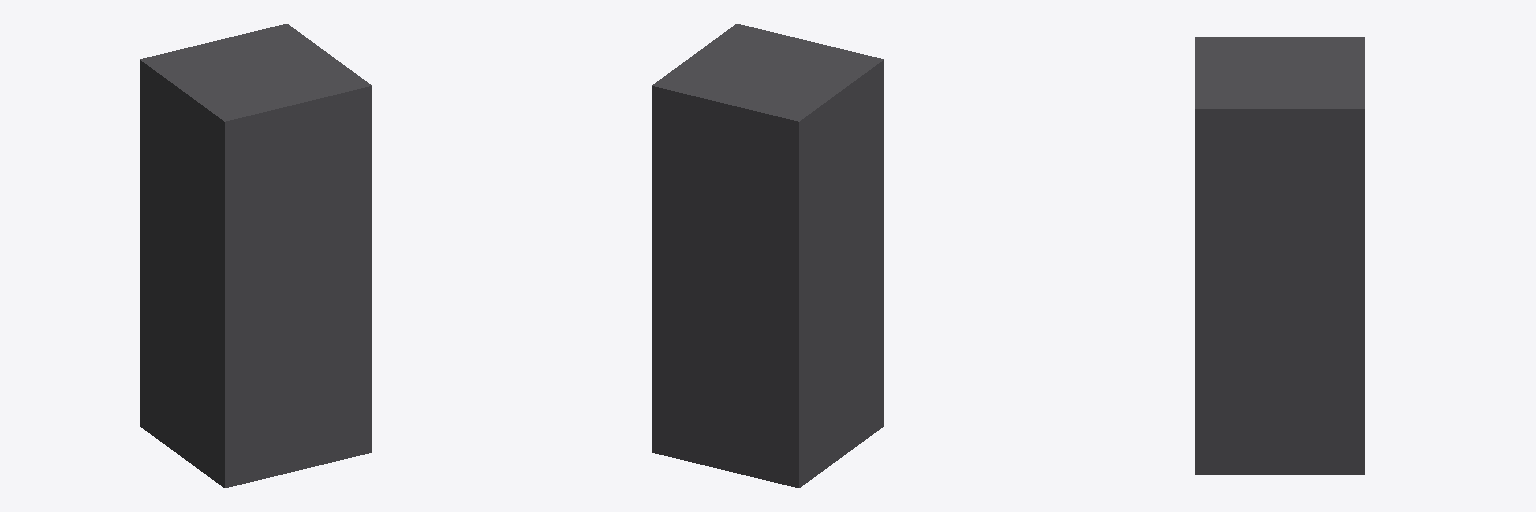
File: showcase2.obj
3 renders of one model, left to right at view 1: azimuth 30°, elevation 25°; view 2: azimuth 150°, elevation 25°; view 3: azimuth 270°, elevation 25°, orthographic.
Parts seen in each view (by area): view 1: Part3, Part2, Part1; view 2: Part3, Part2, Part1; view 3: Part3, Part2, Part1.
Part boxes in pixels (bbox=[...]): Part3: bbox=[140, 99, 371, 449]; Part2: bbox=[140, 24, 371, 159]; Part1: bbox=[140, 388, 371, 487]; Part3: bbox=[652, 99, 883, 449]; Part2: bbox=[652, 24, 883, 159]; Part1: bbox=[652, 388, 883, 487]; Part3: bbox=[1195, 147, 1364, 436]; Part2: bbox=[1195, 37, 1364, 146]; Part1: bbox=[1195, 437, 1364, 474].
Bounding box in the file's own units: 8 × 19 × 8.